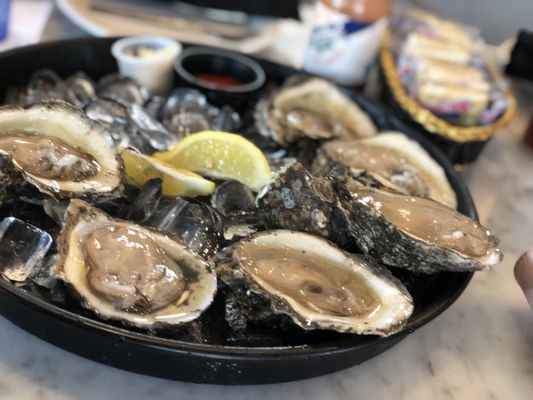pizza: (111, 35, 183, 96)
sushi: (173, 46, 267, 109)
